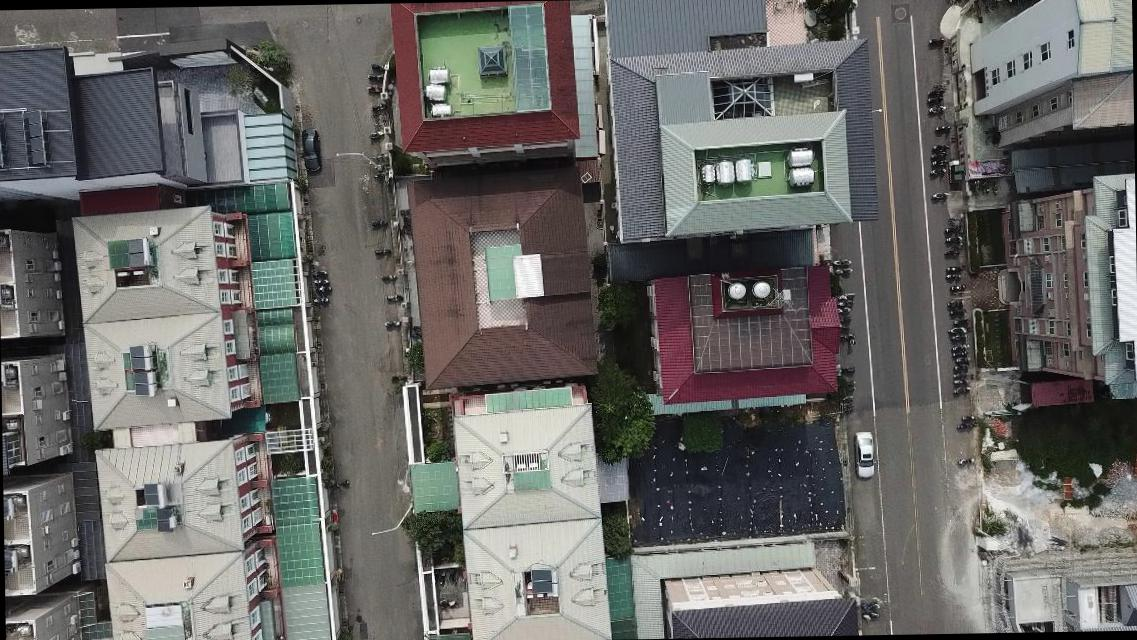vehicle: (854, 430, 876, 480), (300, 128, 322, 176)
